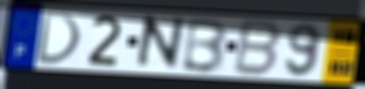2: (86, 14, 123, 69)
9: (284, 23, 324, 79)
B: (231, 18, 284, 78), (179, 17, 230, 75)
D: (34, 9, 83, 67)
N: (132, 14, 188, 72)
